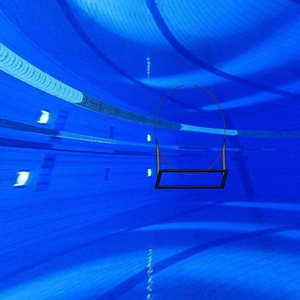circle: (152, 84, 230, 192)
